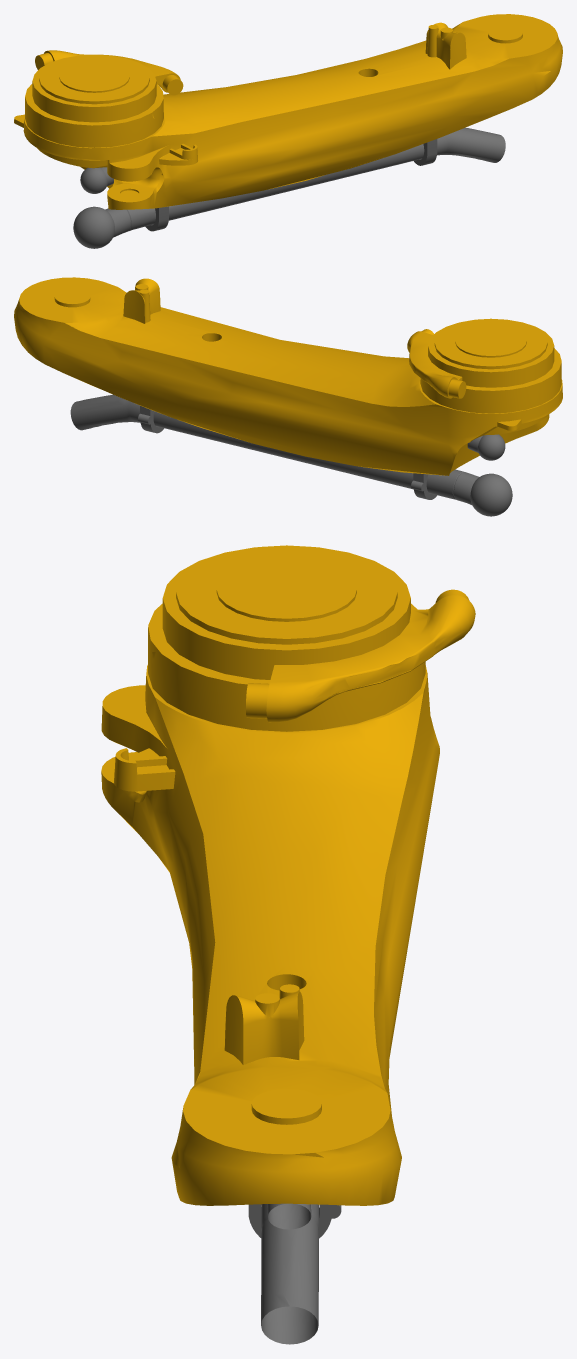
3 views of the same model, one above another, from view 1: azimuth 30°, elevation 25°; view 2: azimuth 150°, elevation 25°; view 3: azimuth 270°, elevation 25° (orthographic). The views are drawn at different scales.
Visible parts, largest first — view 1: KR210R3100_Link2; view 2: KR210R3100_Link2; view 3: KR210R3100_Link2.
Boxes of the visible parts, <box> form: KR210R3100_Link2: <box>14,14,562,248</box>; KR210R3100_Link2: <box>14,277,562,516</box>; KR210R3100_Link2: <box>101,545,475,1344</box>.
Size of the model in its own units: 1.71 by 0.5324 by 0.5755.
